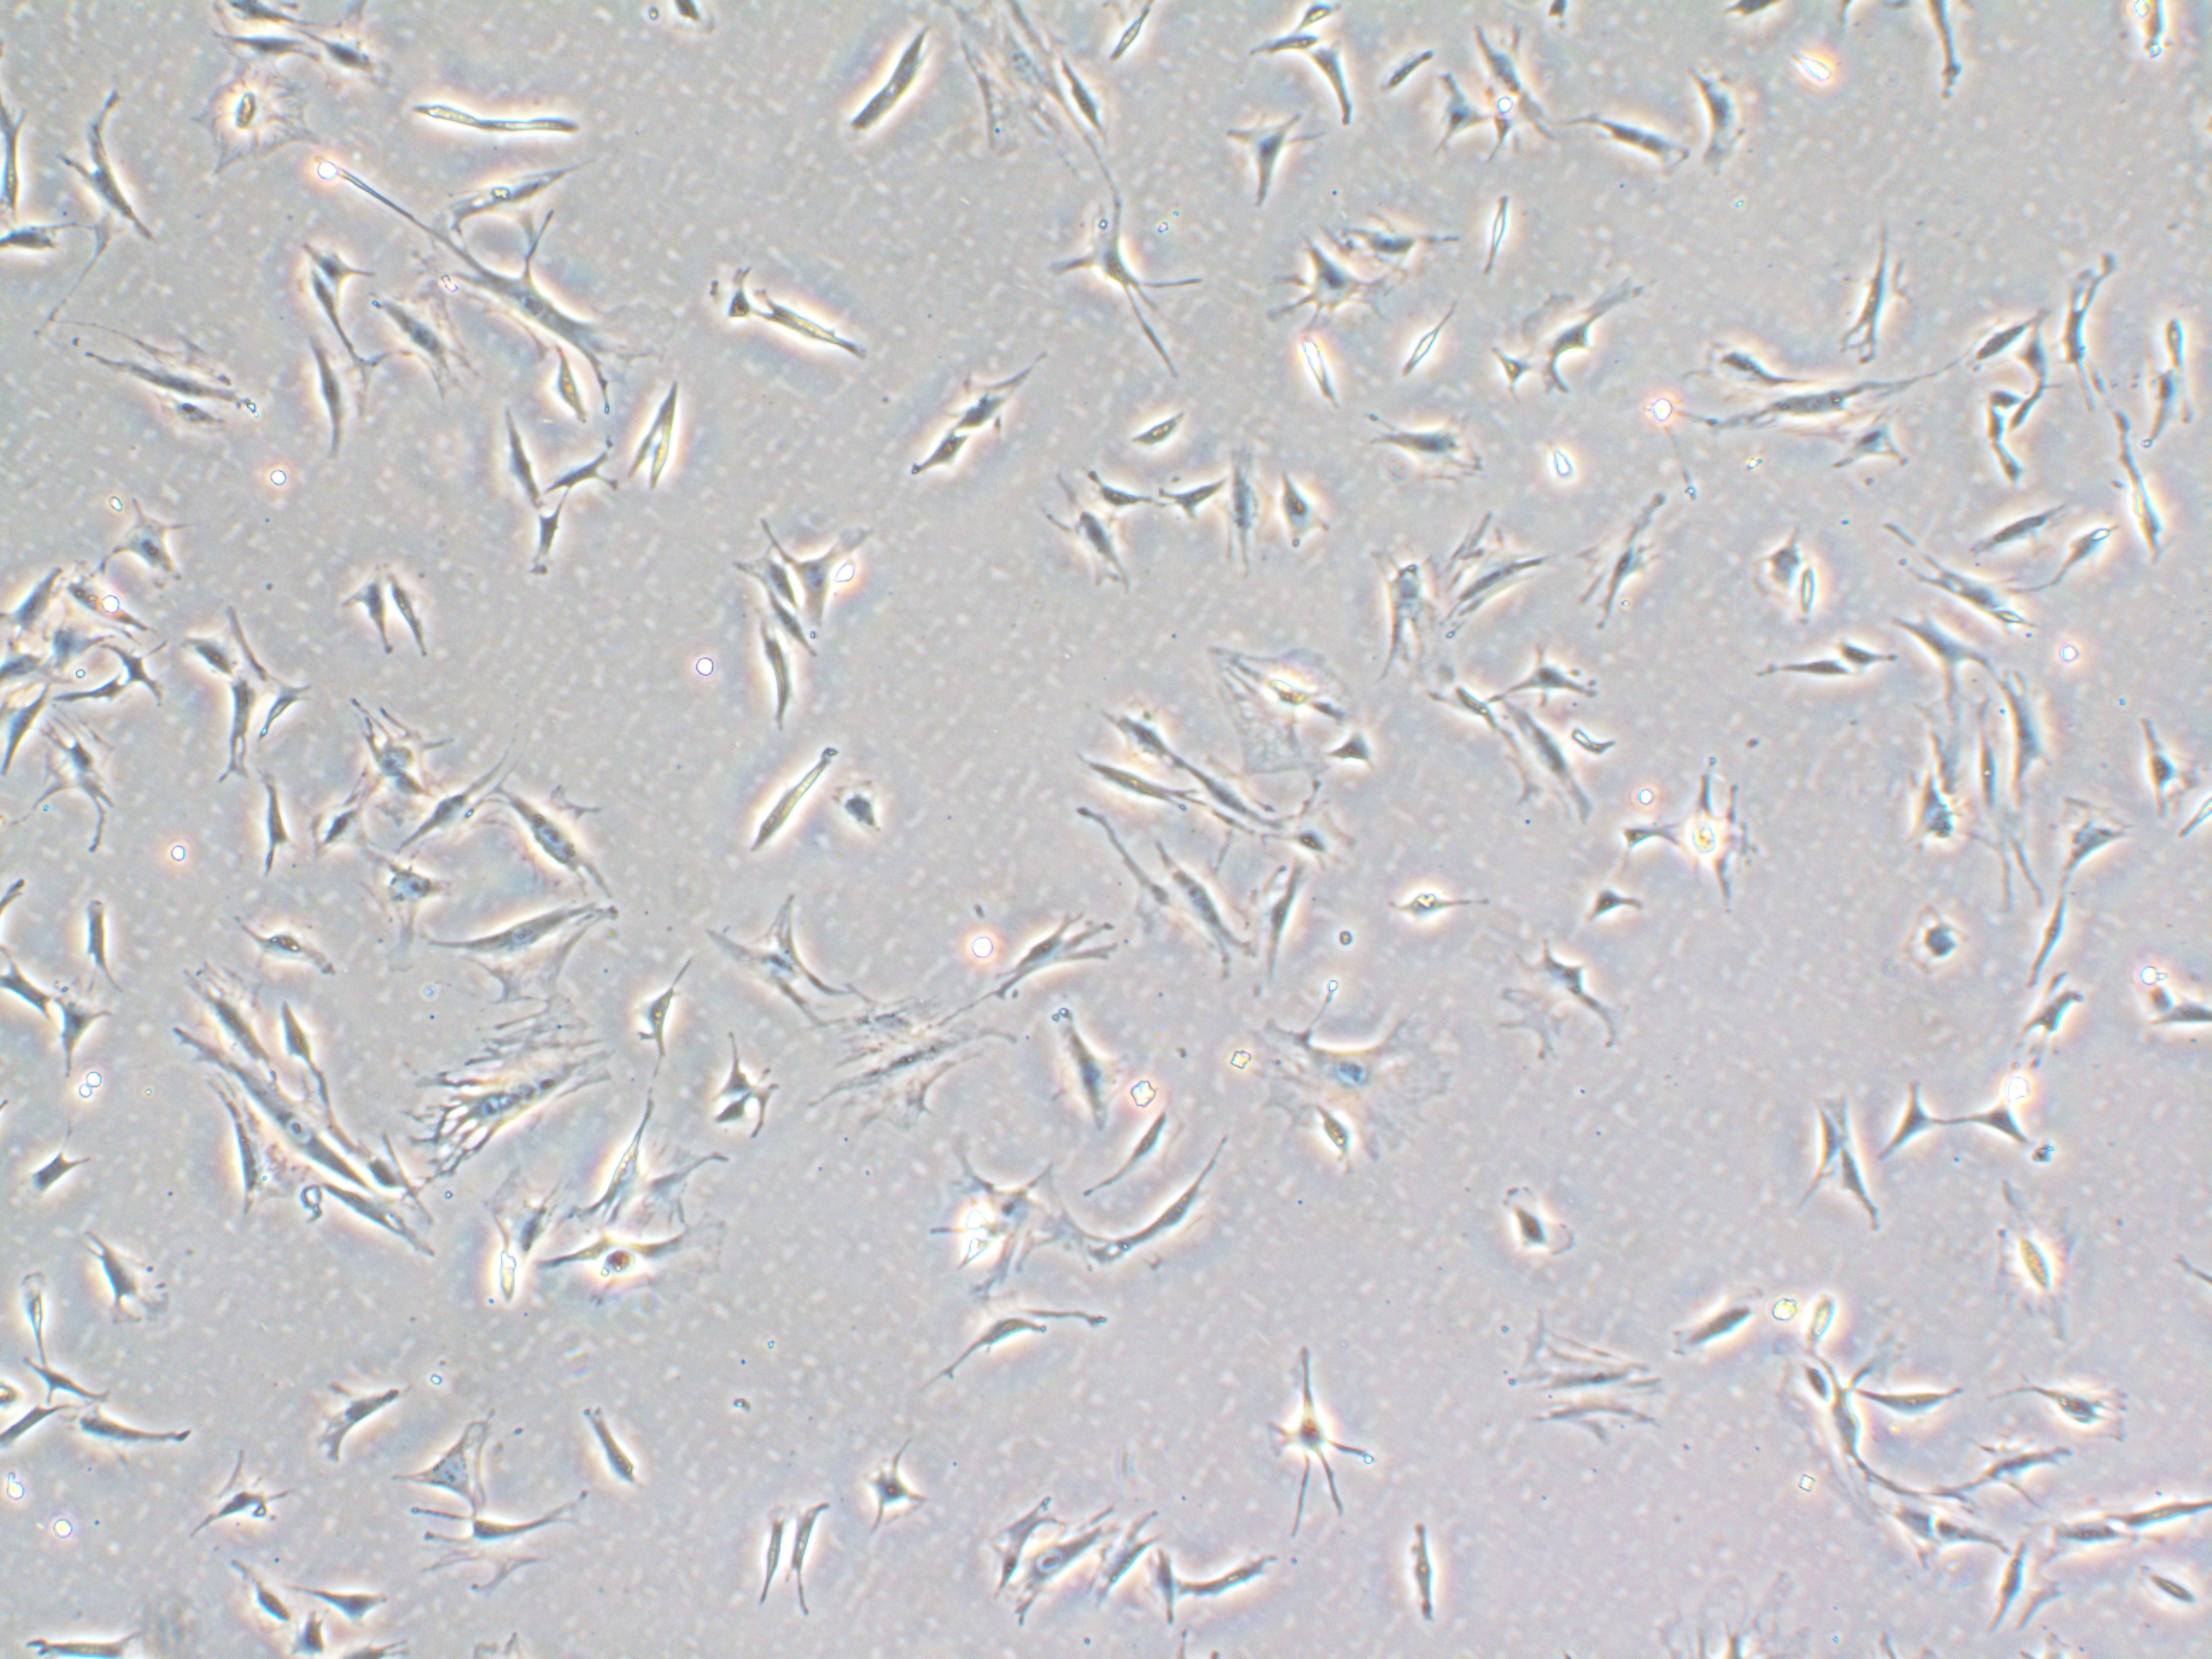Etc: (1392, 289, 1467, 389), (1285, 329, 1350, 425), (1479, 183, 1529, 288)
polygonal: (1049, 188, 1207, 376), (1099, 1121, 1240, 1293), (1705, 350, 1946, 450), (75, 321, 266, 443), (1266, 1324, 1378, 1534), (1508, 261, 1670, 403), (488, 763, 632, 913), (899, 1295, 1115, 1392), (1080, 814, 1211, 974), (57, 91, 171, 270), (1477, 699, 1609, 845), (972, 894, 1129, 1016), (1562, 483, 1681, 633), (1153, 836, 1264, 988), (749, 275, 904, 383), (827, 9, 944, 152), (707, 890, 833, 1021), (765, 519, 880, 659), (564, 1086, 665, 1243), (354, 279, 475, 408), (430, 152, 634, 228), (1022, 479, 1148, 603), (1851, 1473, 1994, 1581), (1362, 549, 1458, 709), (415, 1500, 575, 1596), (1273, 234, 1395, 355), (1834, 199, 1923, 366), (737, 735, 853, 863), (1007, 1506, 1120, 1635), (1568, 103, 1714, 202), (387, 1405, 514, 1518), (158, 1448, 296, 1553), (2099, 410, 2182, 573), (2006, 1368, 2146, 1466), (401, 753, 535, 852), (1345, 411, 1494, 498), (1898, 544, 2041, 634), (1040, 1002, 1143, 1127), (1082, 1497, 1183, 1624), (2043, 784, 2146, 908), (1439, 528, 1552, 638), (1207, 89, 1315, 204), (2116, 690, 2203, 831), (1655, 1274, 1785, 1364), (357, 843, 456, 962), (303, 1373, 413, 1473), (1089, 1089, 1190, 1195), (1212, 436, 1278, 598), (853, 1434, 946, 1549), (1691, 52, 1763, 199), (1376, 1513, 1463, 1631), (563, 1394, 664, 1495), (1895, 596, 1994, 699), (624, 1136, 721, 1241), (970, 1485, 1062, 1595), (282, 328, 352, 467), (92, 493, 195, 587), (57, 1405, 216, 1466), (1197, 1537, 1322, 1614), (1791, 1073, 1848, 1239), (1073, 748, 1200, 821), (618, 361, 685, 500), (1977, 1520, 2054, 1640), (225, 1547, 320, 1643), (953, 345, 1043, 446), (56, 892, 136, 1004), (629, 946, 693, 1082), (1958, 493, 2090, 558), (1952, 291, 2054, 375), (482, 404, 552, 525), (1500, 1182, 1585, 1277), (1486, 650, 1623, 709), (246, 763, 307, 896), (1871, 1070, 1939, 1188), (218, 920, 348, 981), (1137, 1521, 1200, 1645), (1249, 861, 1306, 995), (298, 772, 368, 880), (2000, 666, 2054, 803), (1270, 450, 1336, 561), (1851, 1368, 1987, 1422), (1952, 1094, 2050, 1169), (16, 1351, 129, 1413), (158, 613, 253, 688), (1421, 66, 1487, 173), (2034, 1500, 2137, 1568), (1106, 701, 1195, 779), (820, 767, 897, 857), (1310, 40, 1383, 134), (256, 669, 327, 763), (273, 1582, 404, 1633), (322, 566, 392, 660), (294, 223, 369, 310), (2101, 1476, 2212, 1534), (887, 425, 986, 490), (373, 558, 432, 662), (1573, 871, 1663, 938), (294, 275, 366, 355), (1082, 455, 1163, 521), (752, 601, 794, 730), (1844, 1150, 1895, 1251), (211, 678, 258, 786), (47, 988, 96, 1089), (704, 1014, 758, 1103), (1139, 481, 1235, 530), (1115, 403, 1198, 458), (1740, 662, 1862, 699), (1987, 444, 2050, 504), (1834, 633, 1904, 678), (709, 1094, 759, 1150)
spread: (164, 978, 385, 1225), (1217, 988, 1453, 1185), (411, 992, 632, 1161), (1491, 1298, 1674, 1488), (792, 988, 1017, 1141), (907, 1145, 1106, 1290), (953, 0, 1108, 181), (1193, 629, 1364, 789), (451, 889, 639, 1012), (190, 61, 320, 171), (1892, 904, 1991, 985), (0, 1129, 96, 1209)
